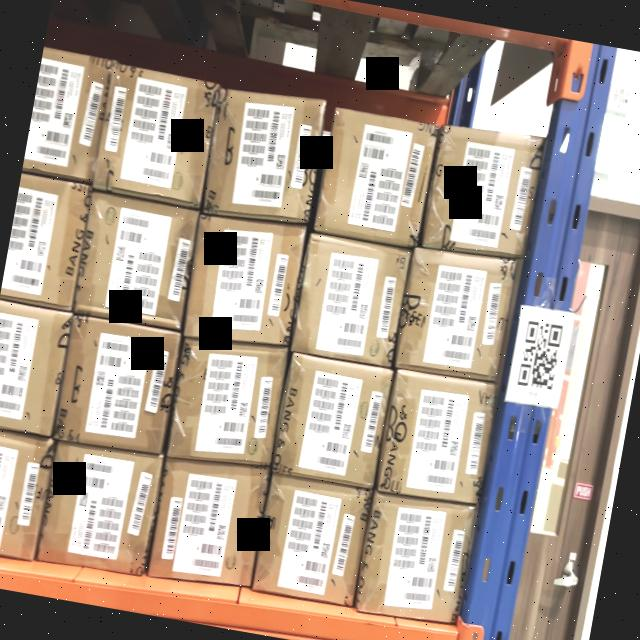box: (69, 186, 204, 336), (54, 310, 186, 456), (92, 62, 224, 208), (199, 86, 330, 228), (392, 245, 520, 386), (376, 370, 502, 510), (180, 213, 308, 350), (163, 332, 288, 472), (250, 470, 376, 608), (270, 351, 394, 490), (314, 108, 436, 248), (423, 122, 545, 261), (148, 456, 272, 590), (352, 494, 477, 626), (37, 442, 163, 572), (290, 234, 412, 357), (0, 171, 96, 317), (21, 42, 114, 182), (0, 296, 72, 436), (0, 425, 53, 555)
